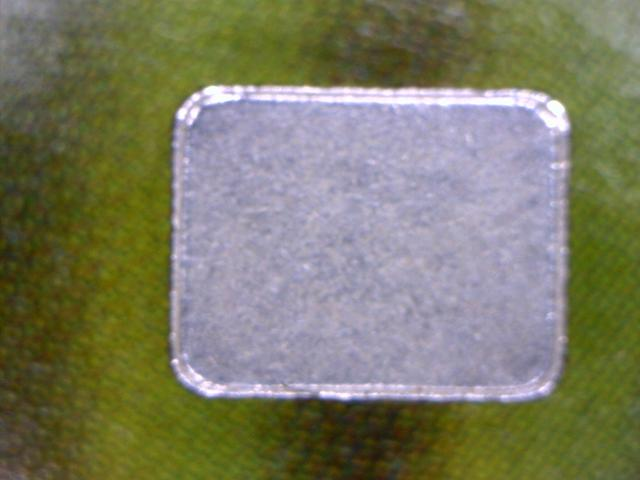nok: (165, 78, 577, 417)
